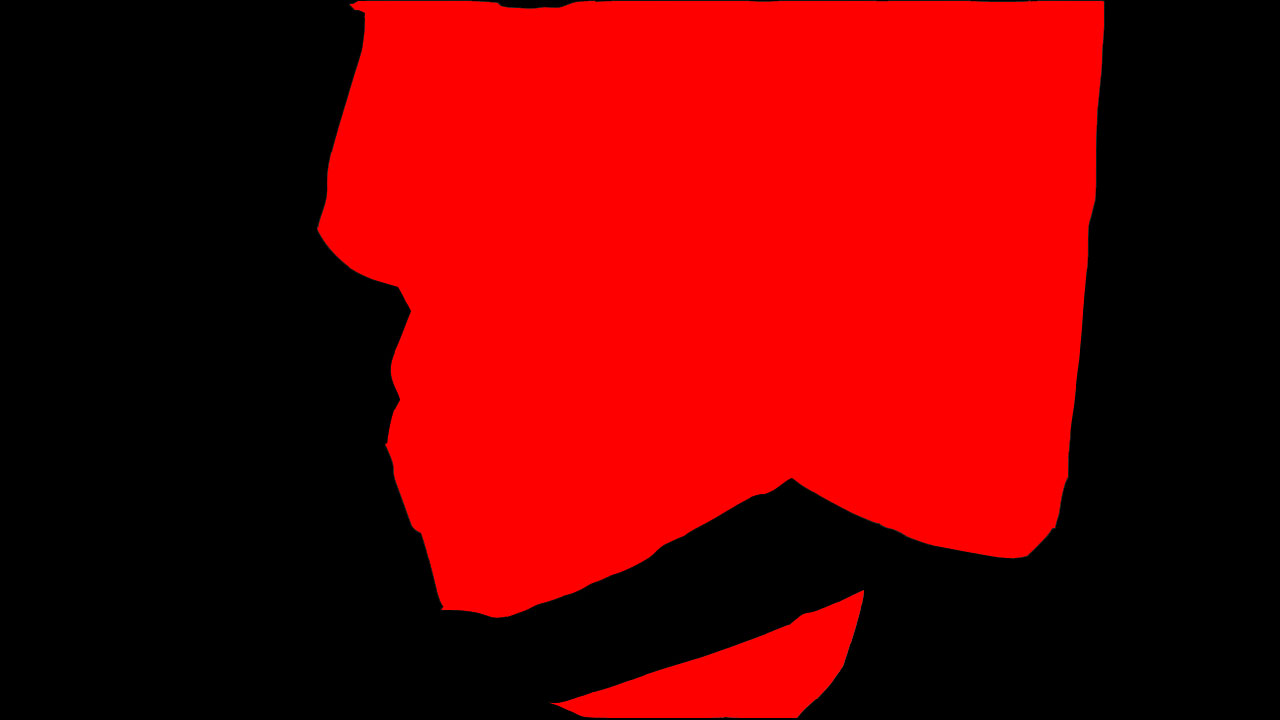uniforme_ifmt: (318, 6, 1089, 720)
